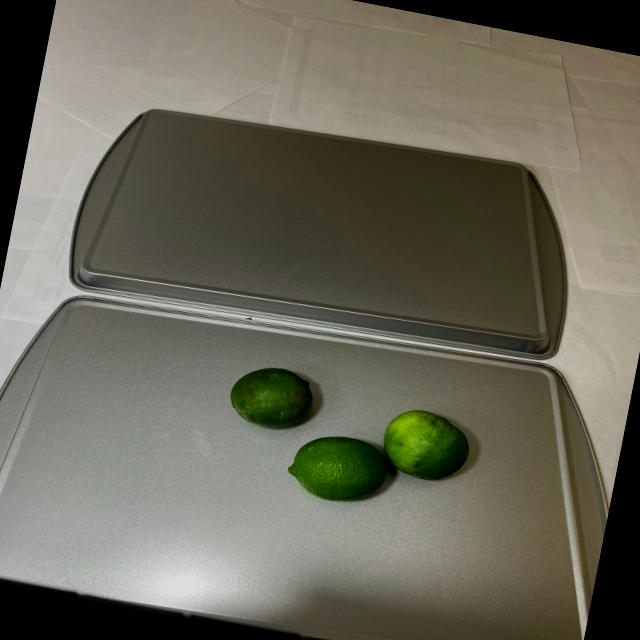lemon: (212, 356, 485, 524)
